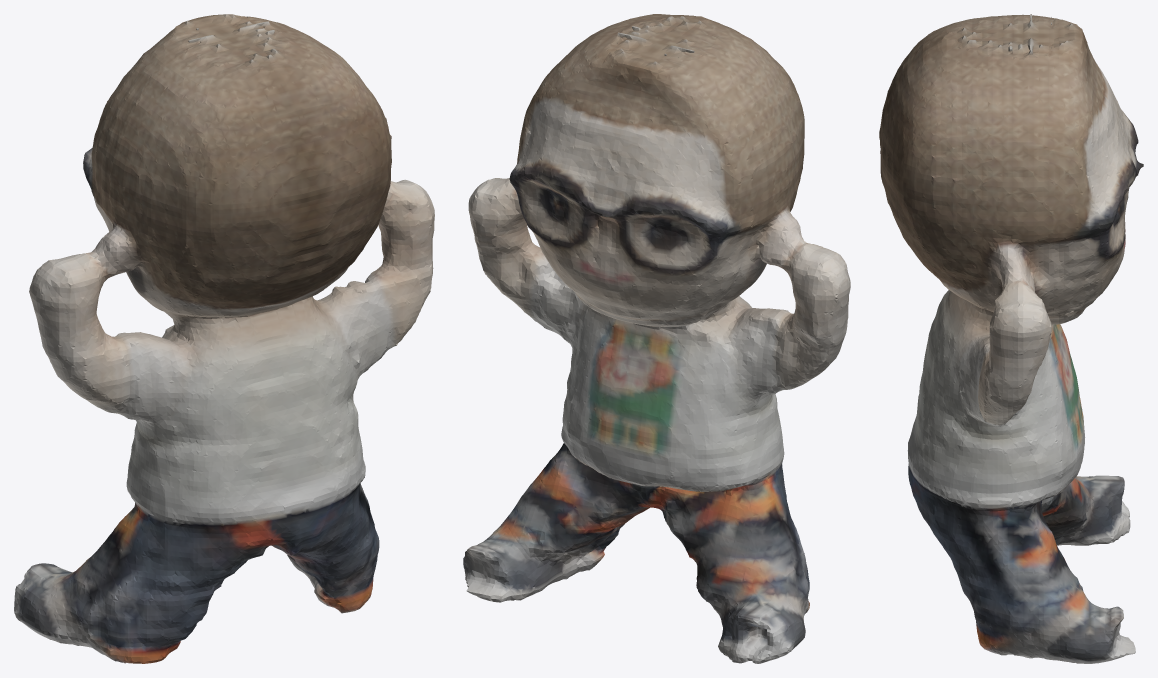
File: kyleflex.glb
The picture shows the model from 3 angles, left to right: view 1: azimuth 30°, elevation 25°; view 2: azimuth 150°, elevation 25°; view 3: azimuth 270°, elevation 25°; orthographic projection. The views are drawn at different scales.
Parts seen in each view (by area): view 1: world; view 2: world; view 3: world.
Part boxes in pixels (x1,y1,x2,y2): world: (14, 14, 434, 663); world: (463, 14, 850, 663); world: (879, 14, 1143, 663).
Size of the model in its own units: 1.41 by 2.01 by 0.8477.
